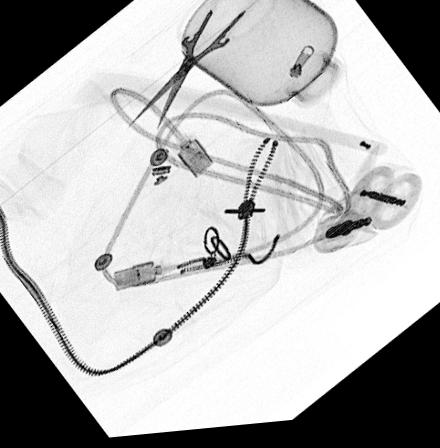Scissors: (122, 0, 283, 132)
